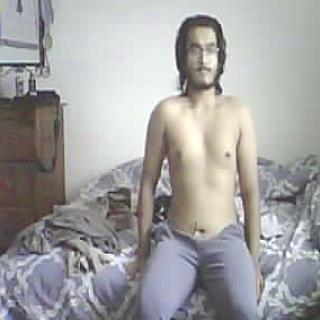Blue Sweatpants: (137, 228, 270, 320)
